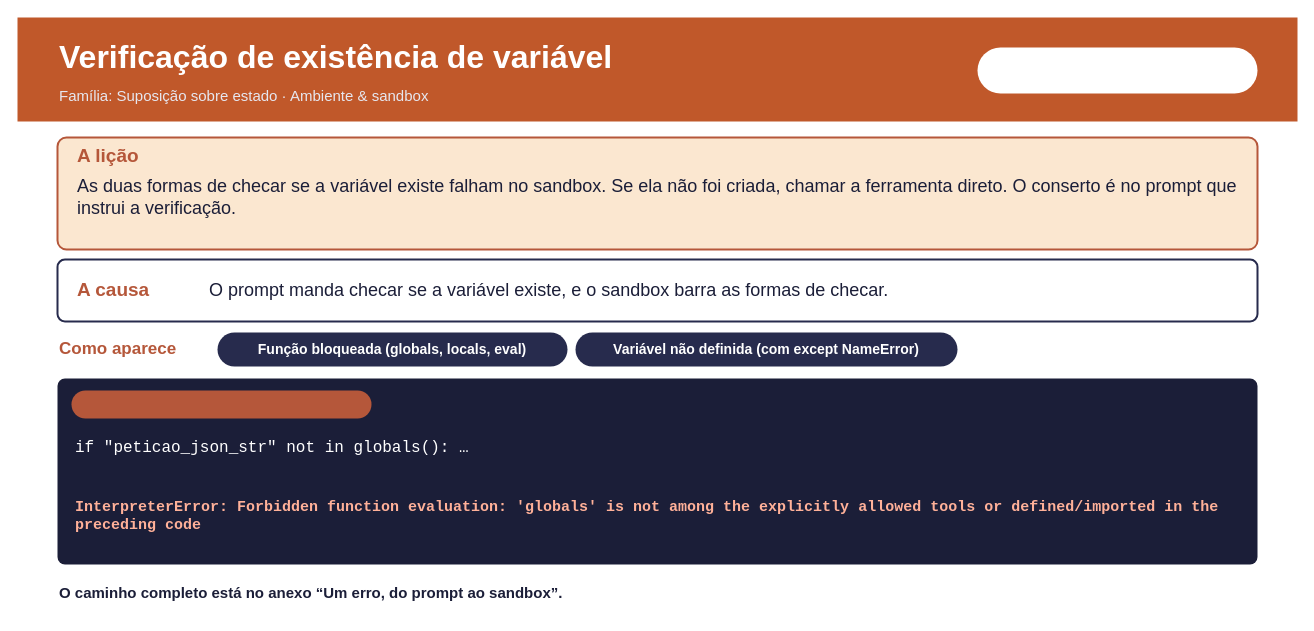
Image size: 1314x631. Some labels were removed from this diagram. The box of each missing label's shape, as (x1, y1, x2, y2) in pixels:
ContestacaoCivel, jul/26: (71, 390, 371, 418)
Sinal de harness: (977, 47, 1257, 93)
